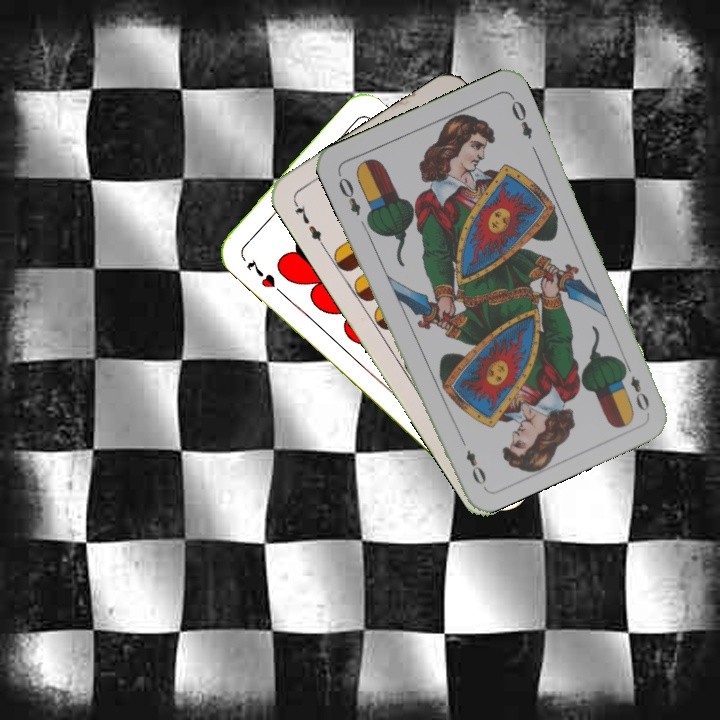E7: (289, 197, 327, 250)
EO: (618, 358, 652, 414), (333, 169, 363, 218)
H7: (242, 256, 279, 291)
